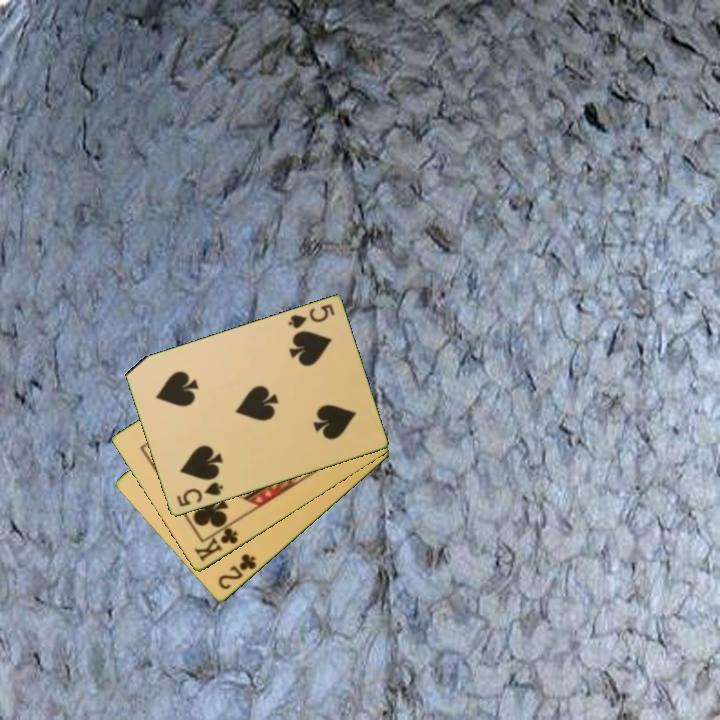2c: (214, 550, 259, 593)
5s: (173, 479, 226, 510), (284, 301, 337, 332)
Kc: (191, 520, 241, 565)
